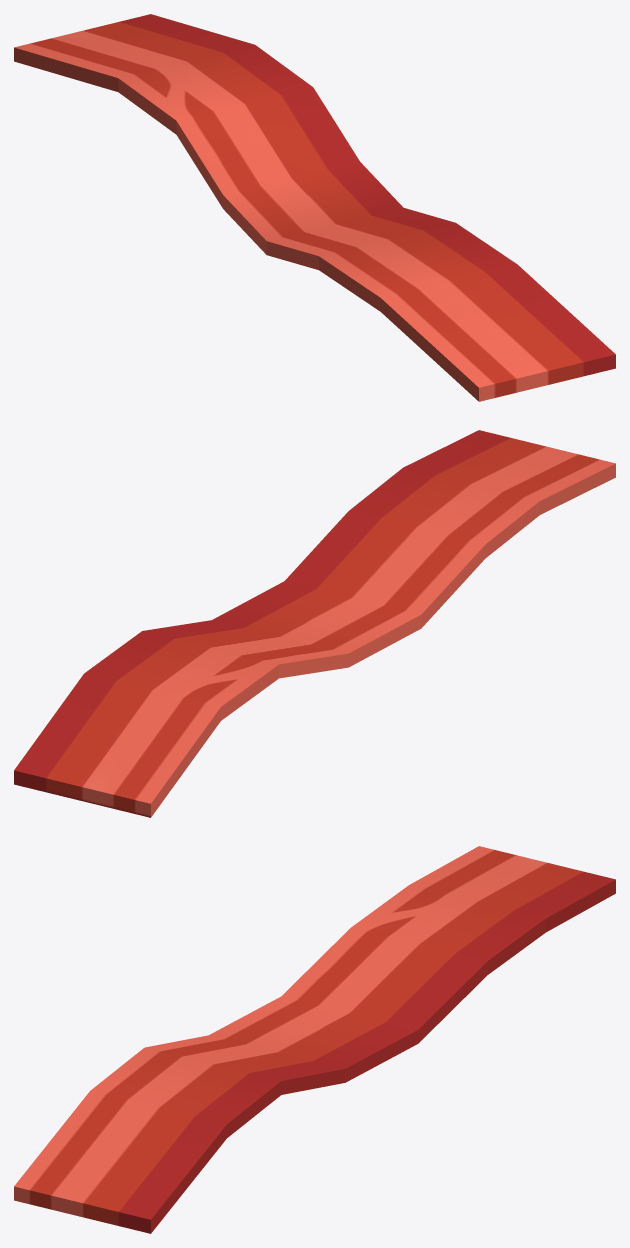
The model's file is bacon.fbx.
3 views of the same model, one above another, from view 1: azimuth 30°, elevation 25°; view 2: azimuth 150°, elevation 25°; view 3: azimuth 330°, elevation 25° (orthographic).
Parts seen in each view (by area): view 1: Bacon_Slice.002; view 2: Bacon_Slice.002; view 3: Bacon_Slice.002.
Boxes of the visible parts, x1,y1,x2,y2 form: Bacon_Slice.002: (14, 14, 615, 401); Bacon_Slice.002: (14, 430, 615, 817); Bacon_Slice.002: (14, 846, 615, 1233).
Size of the model in its own units: 4.11 by 1 by 19.62.
